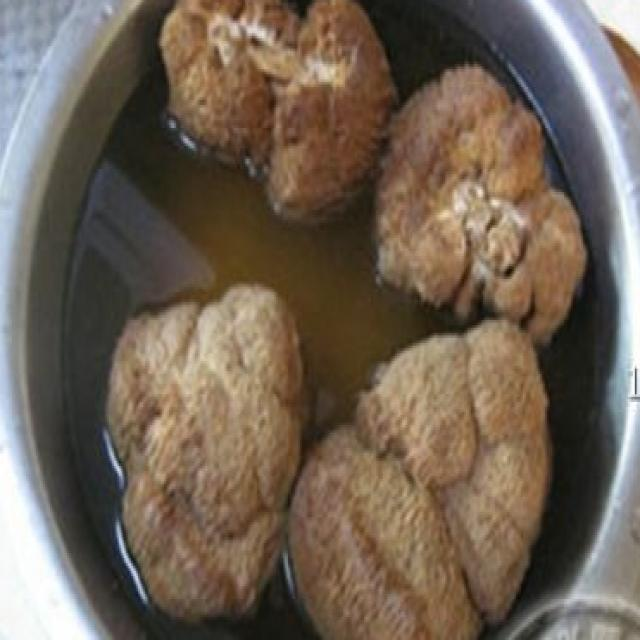Hericium erinaceus: (290, 324, 548, 640), (105, 285, 305, 616), (376, 66, 585, 341), (161, 0, 398, 215)
